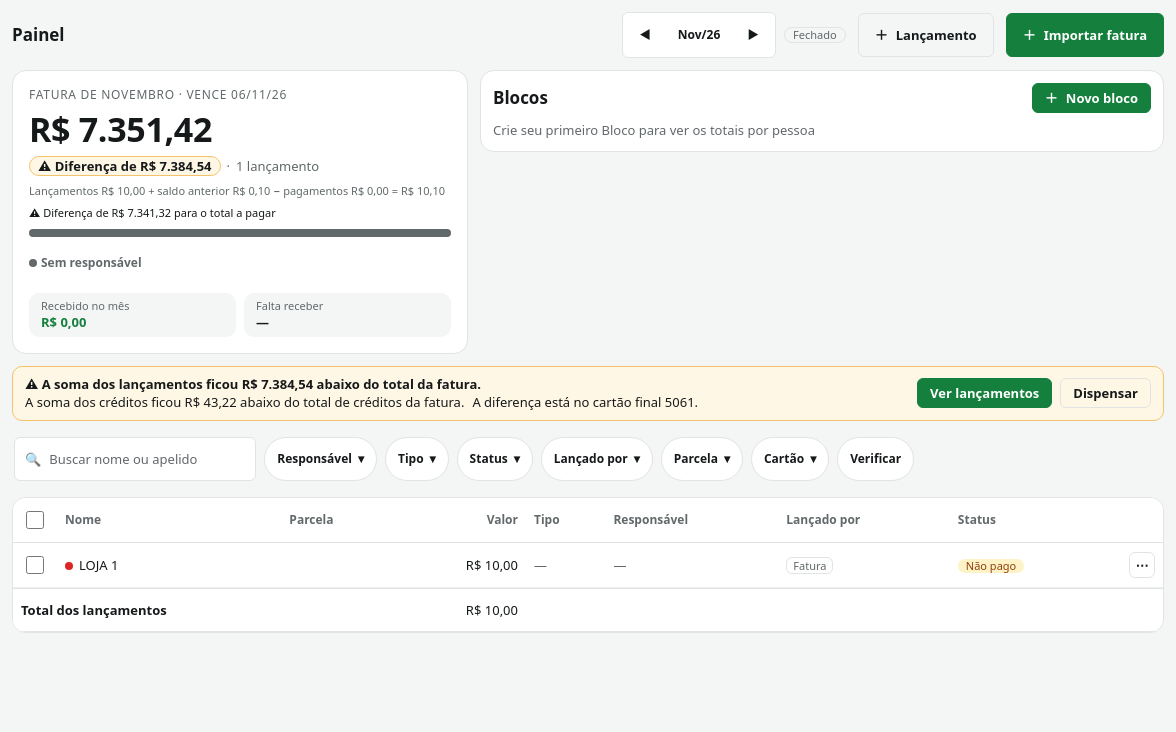
Test: Painel do Mês › trocar de Mês mostra o esqueleto enquanto o Mês novo carrega
Click the button named "Mês anterior".
click(645, 35)  # box [623,13,667,57]
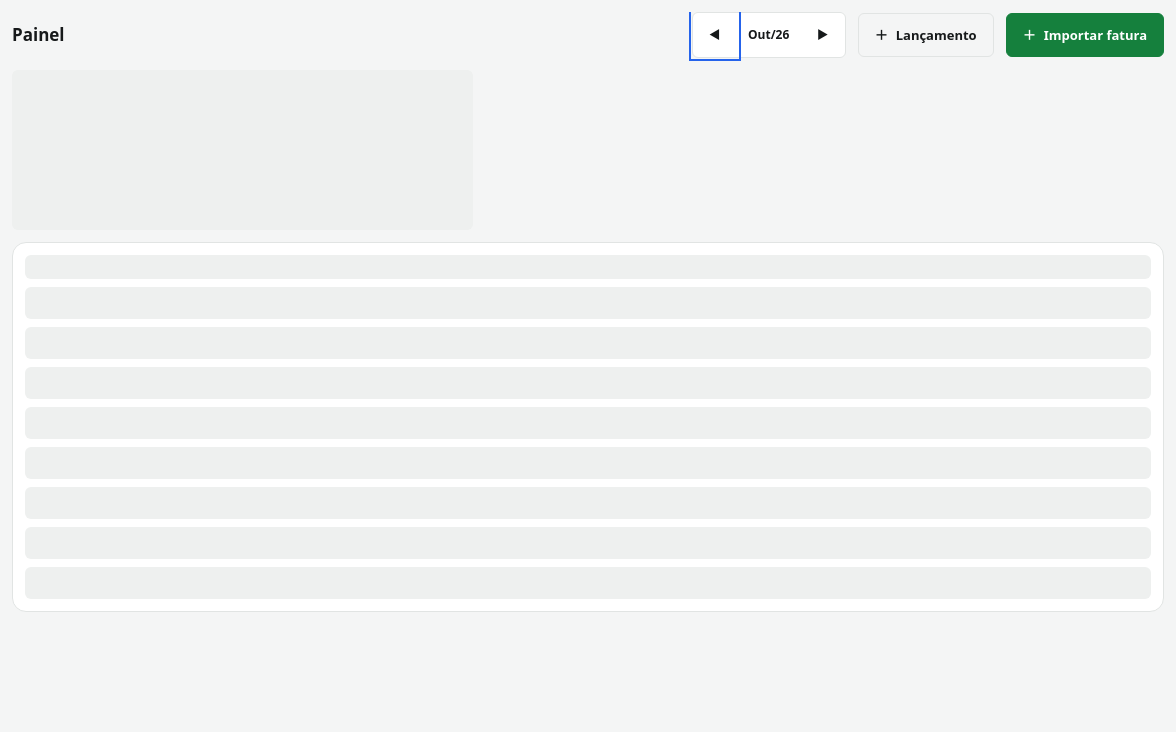
Check: the message is shown
Check: the table is gone
